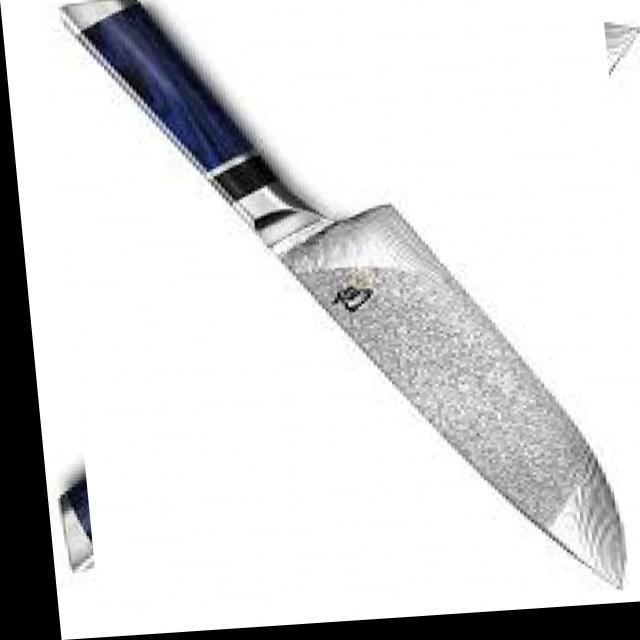knife: (58, 0, 628, 594)
